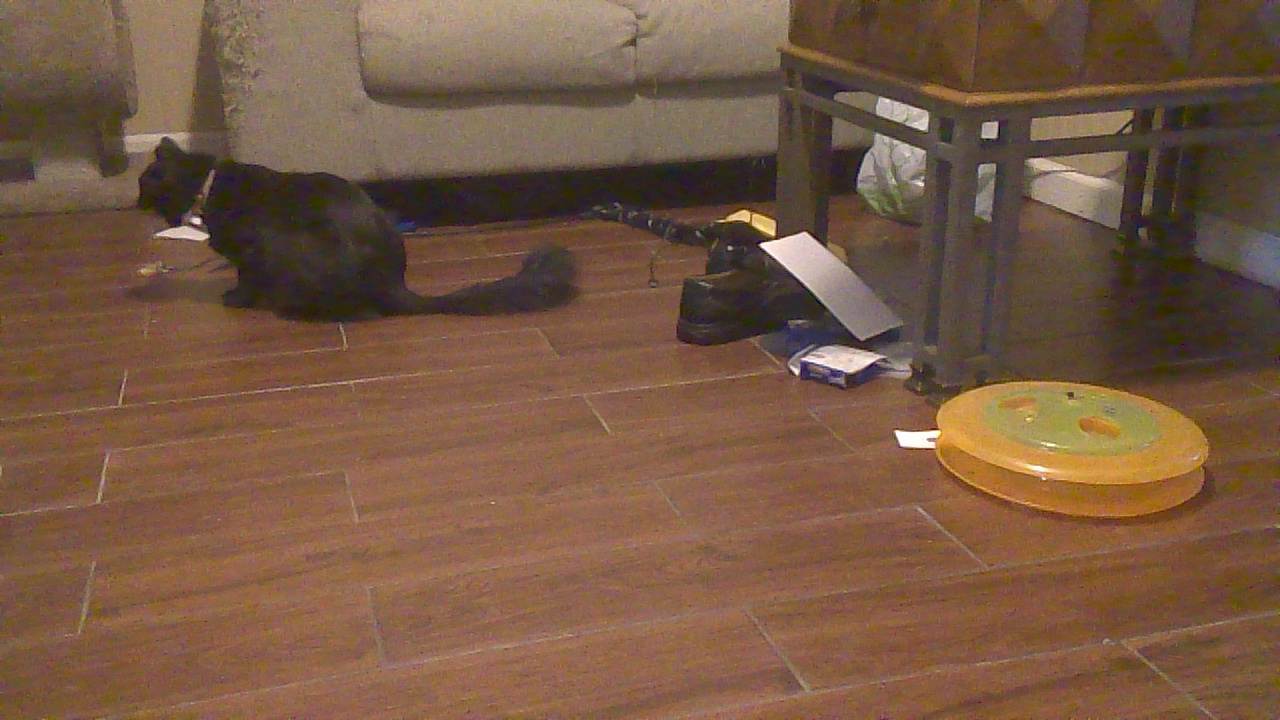cat: (123, 134, 585, 331)
